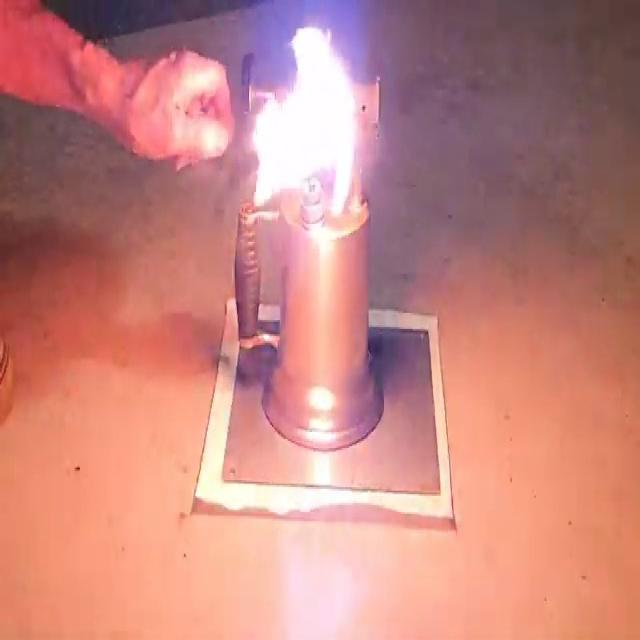fire: (240, 18, 379, 230)
